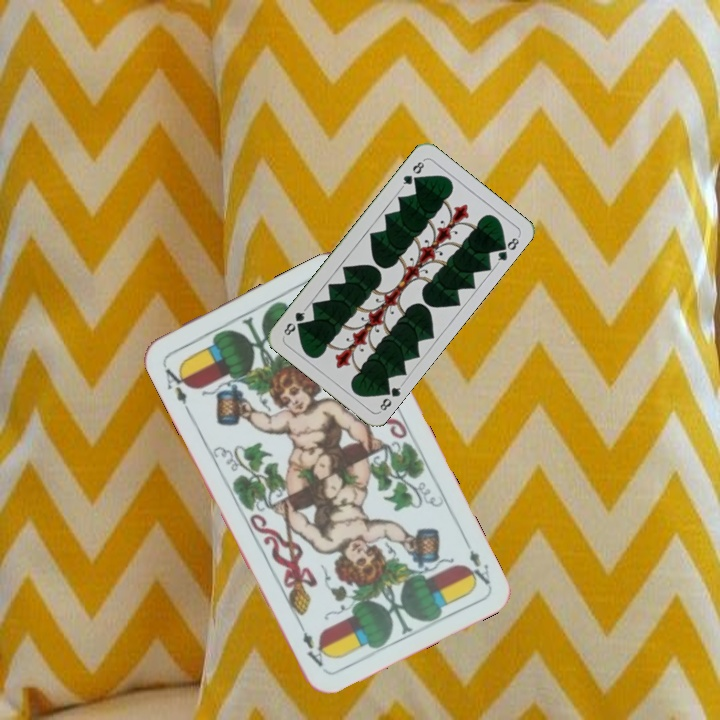EA: (159, 360, 194, 415), (459, 533, 493, 589)
G8: (398, 156, 427, 191), (376, 380, 405, 414)
